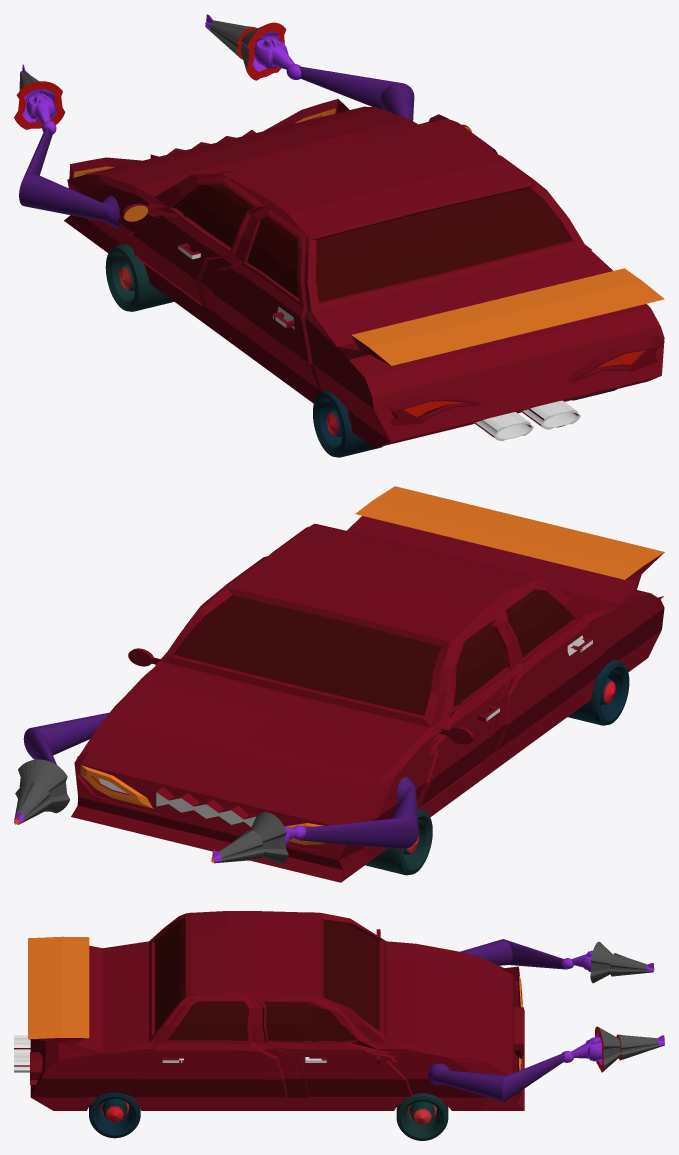
The model's file is BURNER.fbx.
3 renders of one model, top to bottom at view 1: azimuth 30°, elevation 25°; view 2: azimuth 150°, elevation 25°; view 3: azimuth 270°, elevation 25°, orthographic. The views are drawn at different scales.
Parts seen in each view (by area): view 1: car, canon, roue avL, roue arL, canon2; view 2: car, canon, canon2, roue arL, roue avL; view 3: car, canon, roue avR, roue arR, canon2.
Boxes of the visible parts, <box> form: car: <box>19,66,664,448</box>; canon: <box>205,14,301,80</box>; roue avL: <box>105,243,173,311</box>; roue arL: <box>313,390,382,457</box>; canon2: <box>14,64,65,134</box>; car: <box>23,486,664,882</box>; canon: <box>14,759,69,824</box>; canon2: <box>211,812,306,864</box>; roue arL: <box>568,659,629,725</box>; roue avL: <box>365,808,432,875</box>; car: <box>14,911,567,1110</box>; canon: <box>561,1026,664,1072</box>; roue avR: <box>396,1093,448,1140</box>; roue arR: <box>89,1092,140,1138</box>; canon2: <box>561,941,654,983</box>.
Size of the model in its own units: 289 by 127 by 541.
